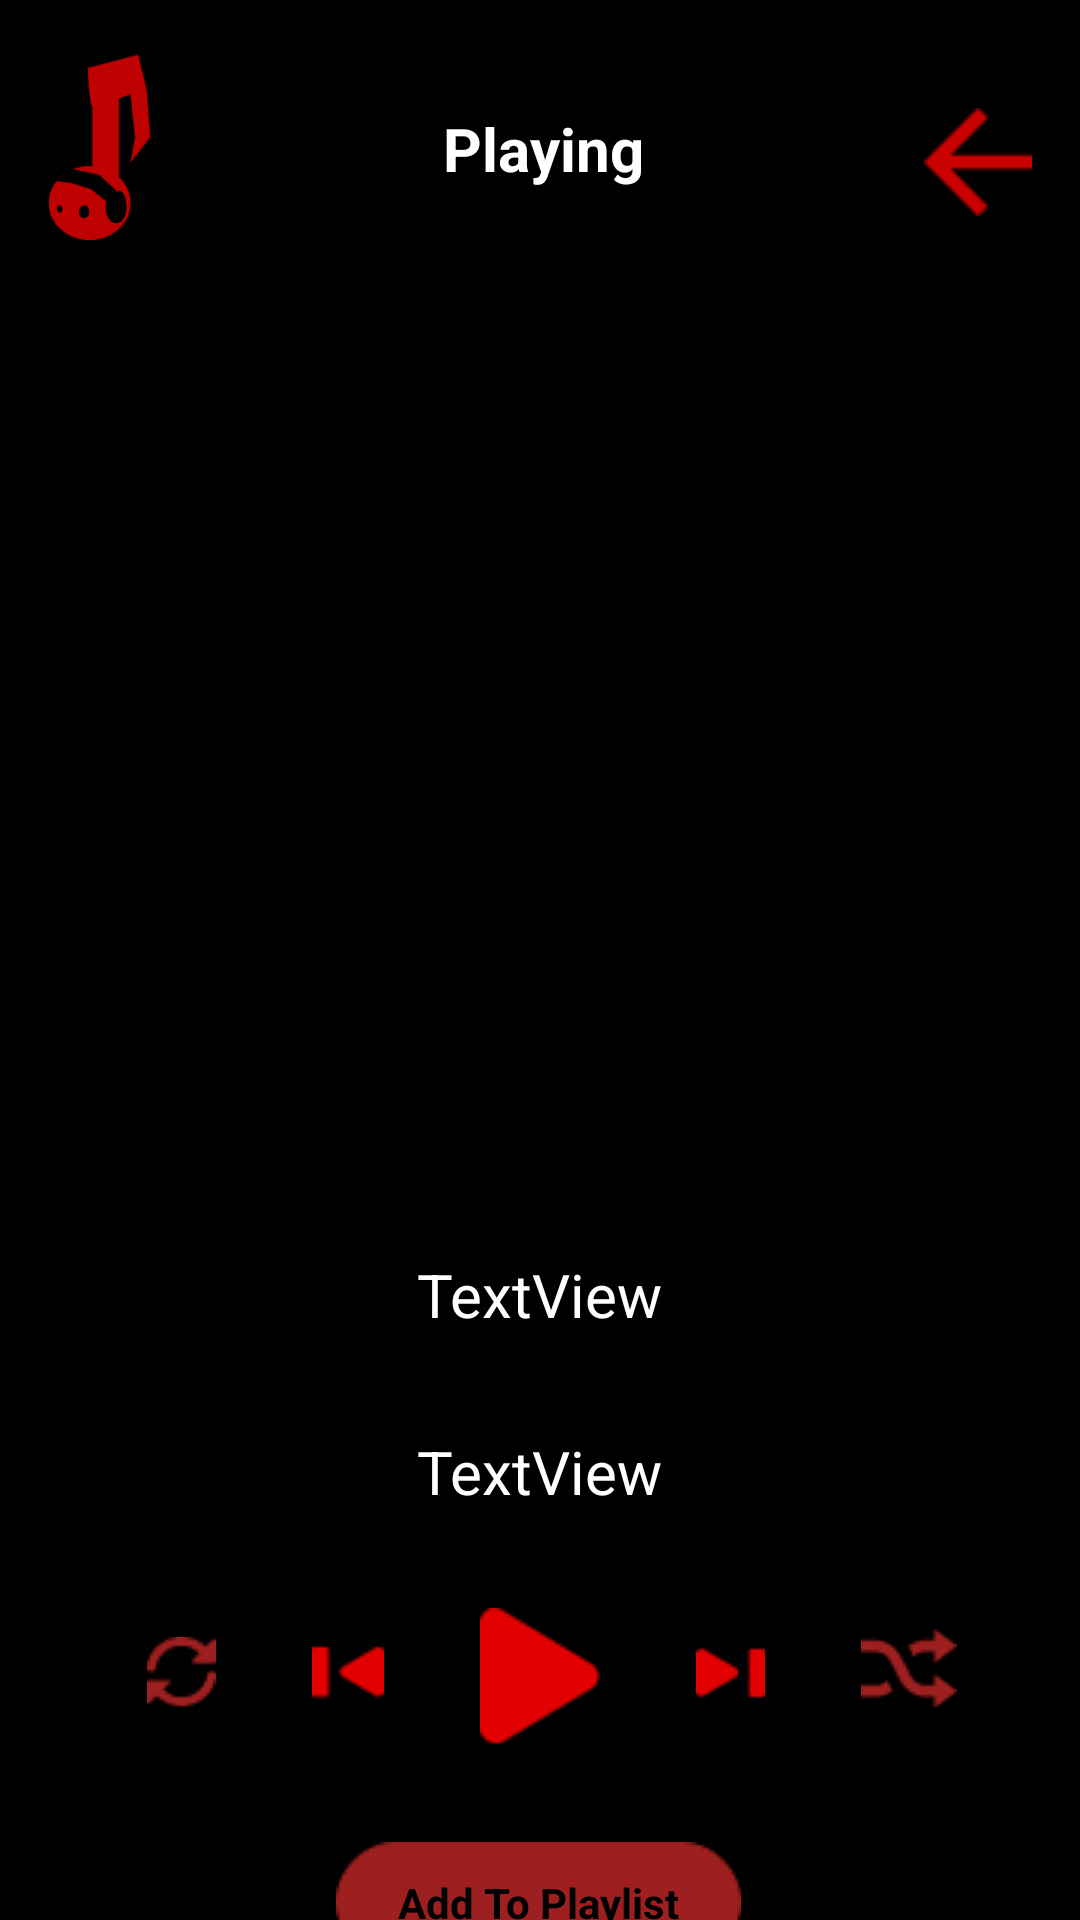

Named icons in this screenshot (1080×1920) and their centers, (x=x, y=y):
backward arrow: (x=978, y=162)
edgynote: (x=100, y=147)
leftbackward: (x=348, y=1672)
noloop: (x=181, y=1672)
noshuffle: (x=909, y=1668)
playbutton: (x=540, y=1676)
rightforward: (x=730, y=1673)
